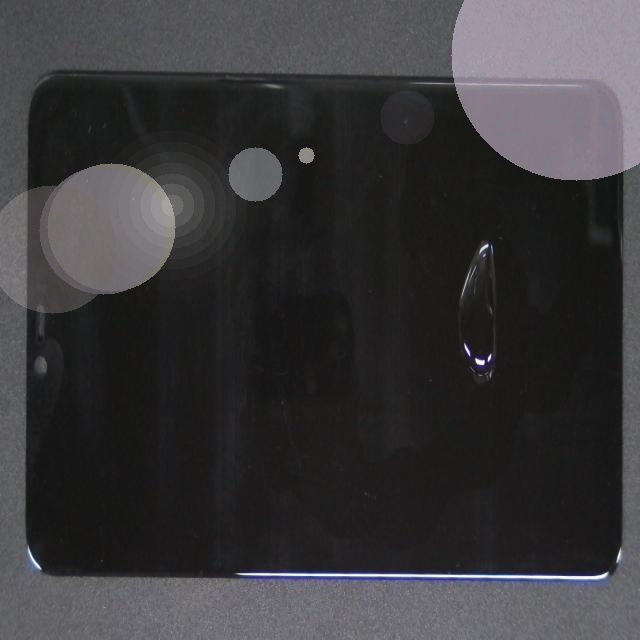oil: (250, 223, 640, 516)
